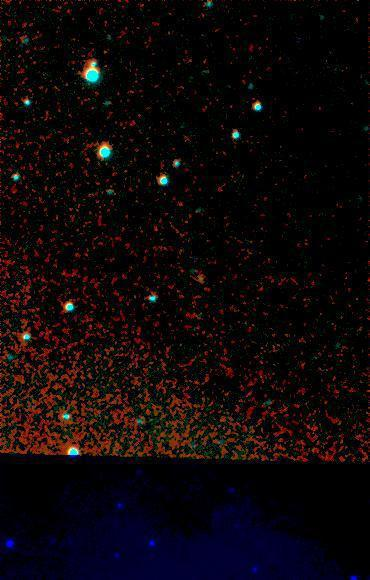star: (87, 78, 117, 108)
